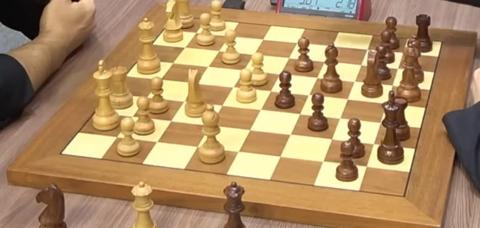xcorner: (398, 49, 405, 56), (362, 46, 369, 53), (327, 43, 334, 50), (292, 39, 299, 46), (258, 36, 265, 43), (224, 33, 231, 40), (190, 29, 197, 36), (393, 65, 400, 72), (356, 62, 363, 69), (320, 58, 327, 65), (284, 55, 291, 62), (249, 51, 256, 58), (214, 48, 221, 55), (179, 44, 186, 51), (388, 82, 395, 89), (350, 79, 357, 86), (312, 75, 319, 82), (275, 71, 282, 78), (239, 67, 246, 74), (203, 63, 210, 70), (168, 60, 175, 67), (382, 101, 389, 108), (343, 96, 350, 103), (304, 92, 311, 99), (266, 88, 273, 95), (229, 84, 236, 91), (192, 80, 199, 87), (155, 76, 162, 83), (376, 120, 383, 127), (335, 115, 342, 122), (296, 111, 303, 118), (256, 107, 263, 114), (218, 102, 225, 109), (180, 98, 187, 105), (142, 94, 149, 101), (369, 141, 376, 148), (327, 136, 334, 143), (286, 131, 293, 138), (246, 126, 253, 133), (206, 122, 213, 129), (167, 117, 174, 124), (128, 113, 135, 120), (362, 163, 369, 170), (319, 158, 326, 165), (276, 153, 283, 160), (235, 148, 242, 155), (193, 143, 200, 150), (153, 138, 160, 145), (113, 133, 120, 140)
